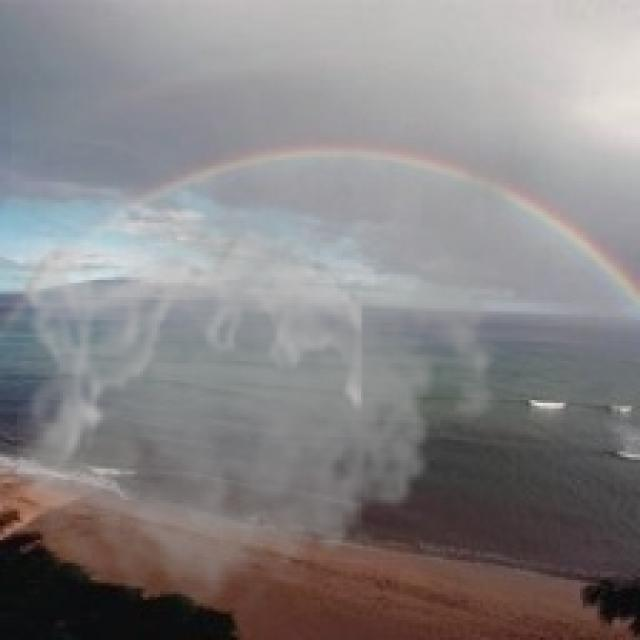smoke: (11, 89, 532, 626)
